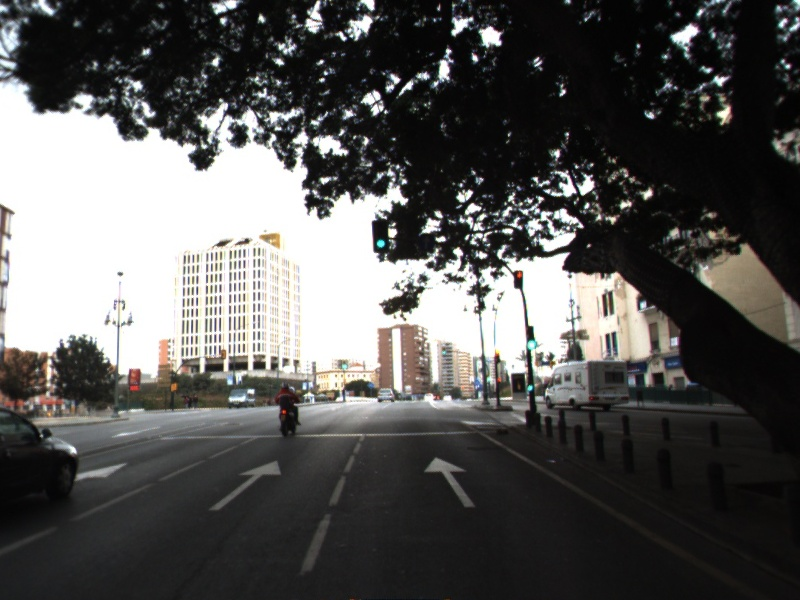STRAIGHT: (205, 458, 285, 513), (421, 454, 478, 510), (71, 460, 132, 483)
